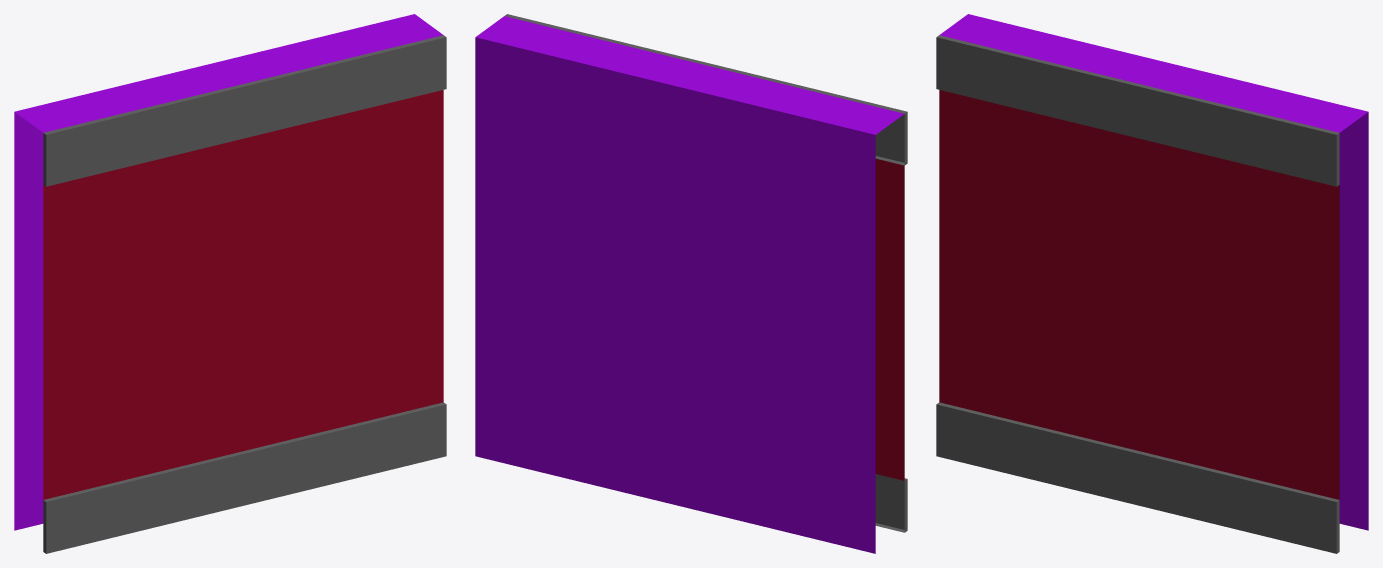
File: Wall_X_01_2x2.fbx
3 views of the same model, side by side, from view 1: azimuth 30°, elevation 25°; view 2: azimuth 150°, elevation 25°; view 3: azimuth 330°, elevation 25° (orthographic).
Parts seen in each view (by area): view 1: Wall_01_2x4; view 2: Wall_01_2x4; view 3: Wall_01_2x4.
Boxes of the visible parts, left/top/right/bottom form: Wall_01_2x4: left=14, top=14, right=446, bottom=553; Wall_01_2x4: left=475, top=14, right=907, bottom=553; Wall_01_2x4: left=936, top=14, right=1368, bottom=553.
Bounding box in the file's own units: 2 × 2 × 0.275.
